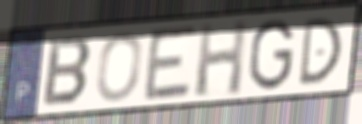B: (40, 35, 94, 108)
D: (296, 15, 345, 89)
E: (141, 22, 199, 104)
G: (248, 17, 297, 92)
H: (193, 17, 249, 99)
O: (94, 30, 145, 103)
